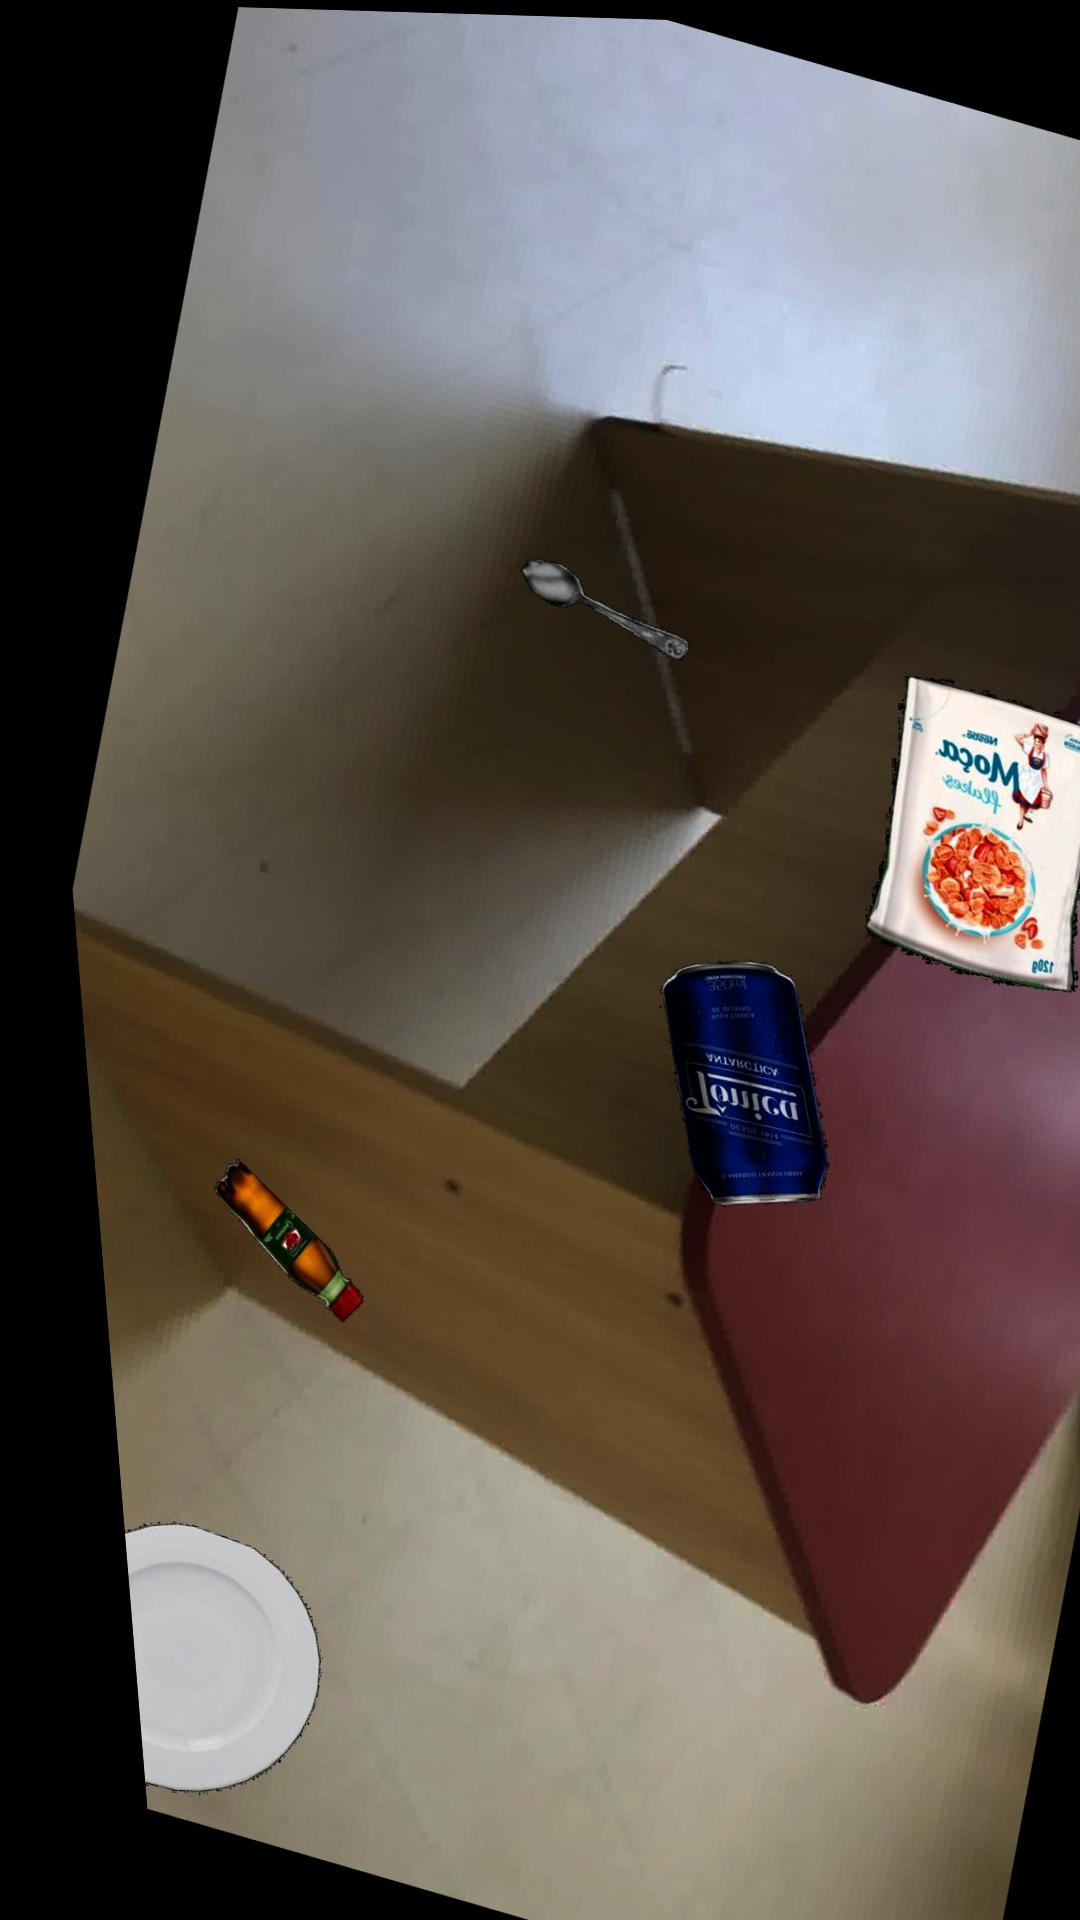corn flakes: (849, 669, 1080, 984)
guarana: (193, 1156, 340, 1319)
plate: (98, 1520, 291, 1789)
spoon: (510, 554, 676, 655)
tonic: (642, 955, 808, 1201)
